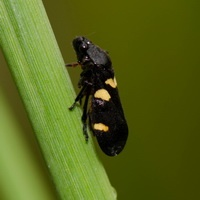insect: (69, 36, 127, 155)
